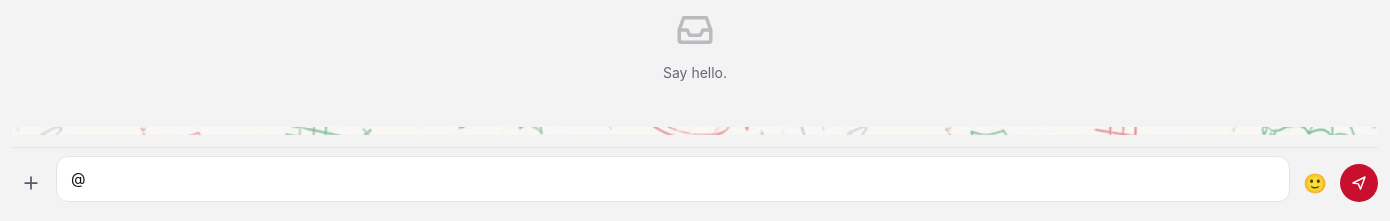
Test: DM composer bar › 1:1: + menu for photo/file/poll, no @ UI even after typing @
Click the button with test id "attach-menu": coordinates (31, 183) [12,164,50,202]
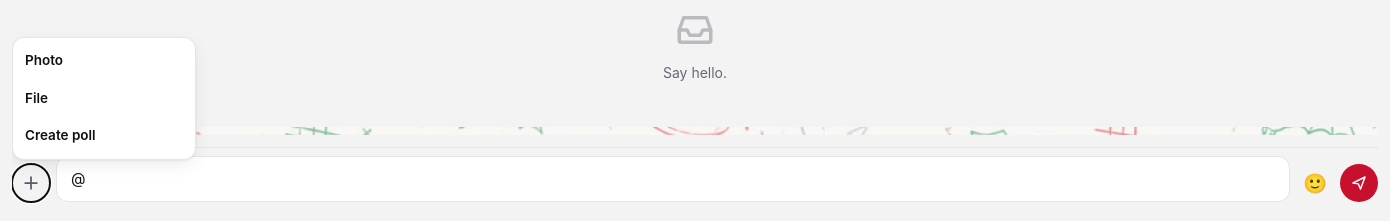
Result: the menu item with test id "attach-menu-photo" is shown at [13,42,195,80]
Result: the menu item with test id "attach-menu-file" is shown at [13,80,195,117]
Result: the menu item with test id "attach-menu-poll" is shown at [13,117,195,155]
